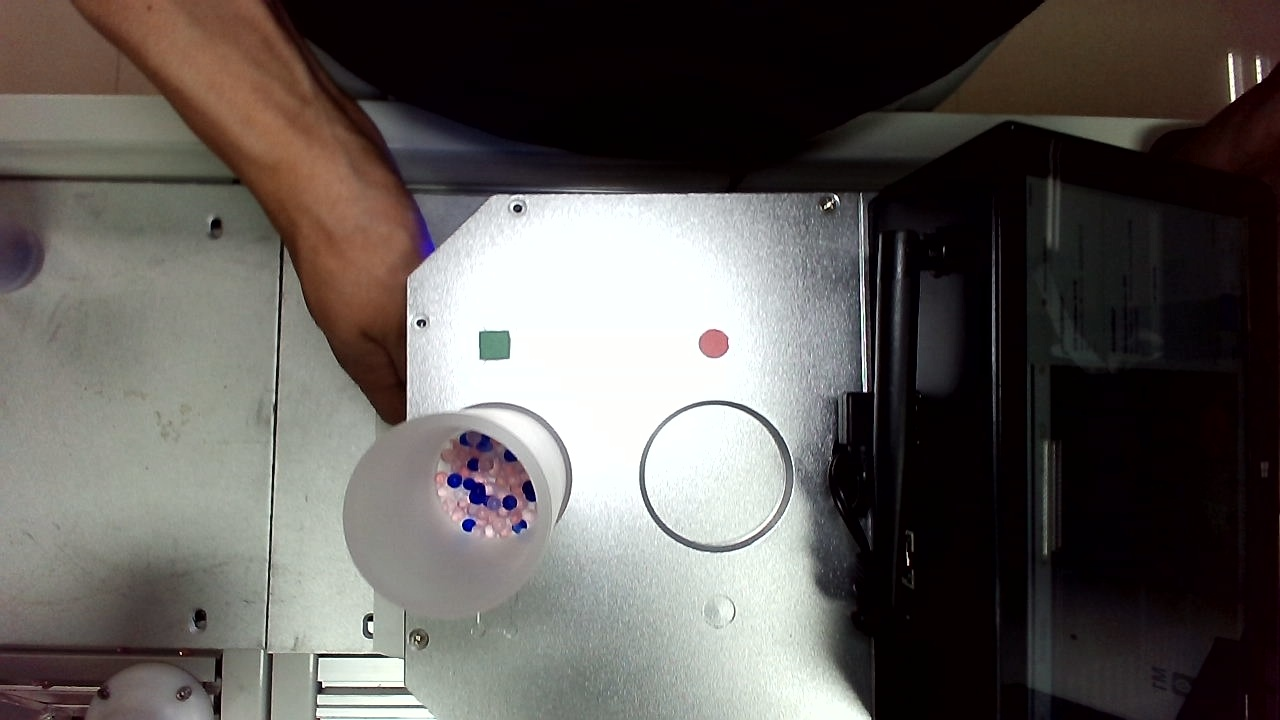bad: (839, 383, 890, 431), (256, 606, 304, 655), (784, 15, 829, 62), (266, 9, 310, 55), (815, 92, 859, 135), (467, 641, 507, 686), (261, 163, 304, 204), (747, 638, 788, 679), (765, 588, 806, 629), (813, 550, 852, 593), (260, 331, 299, 371), (578, 529, 616, 570), (832, 52, 873, 89), (584, 452, 625, 489), (347, 2, 385, 40), (404, 53, 440, 92), (753, 423, 790, 460), (809, 347, 845, 384), (612, 347, 648, 383), (808, 404, 843, 440), (802, 53, 835, 91)
defact: (687, 143, 727, 181)
pass: (578, 144, 621, 195), (638, 426, 682, 474), (386, 479, 431, 523), (287, 565, 329, 610), (626, 390, 668, 433), (552, 378, 592, 422), (261, 406, 304, 446), (690, 94, 729, 138), (598, 608, 636, 652), (763, 135, 801, 178), (412, 277, 452, 317), (619, 580, 656, 623), (857, 591, 892, 632), (662, 45, 696, 83)
toolong: (747, 482, 814, 545), (352, 36, 392, 102), (782, 436, 825, 496)
unpass: (794, 201, 844, 246), (260, 525, 308, 570), (832, 1, 875, 51), (836, 344, 880, 387), (833, 489, 877, 532), (256, 286, 300, 327), (647, 356, 686, 402), (269, 201, 314, 240), (769, 361, 808, 404), (845, 421, 889, 459), (822, 638, 862, 678), (842, 311, 882, 351), (731, 580, 768, 622), (680, 550, 717, 591), (800, 614, 836, 656), (584, 563, 622, 602), (278, 365, 319, 401), (858, 639, 897, 676), (679, 8, 715, 48), (823, 528, 866, 561), (747, 89, 781, 130), (309, 5, 346, 42), (640, 15, 674, 52)
